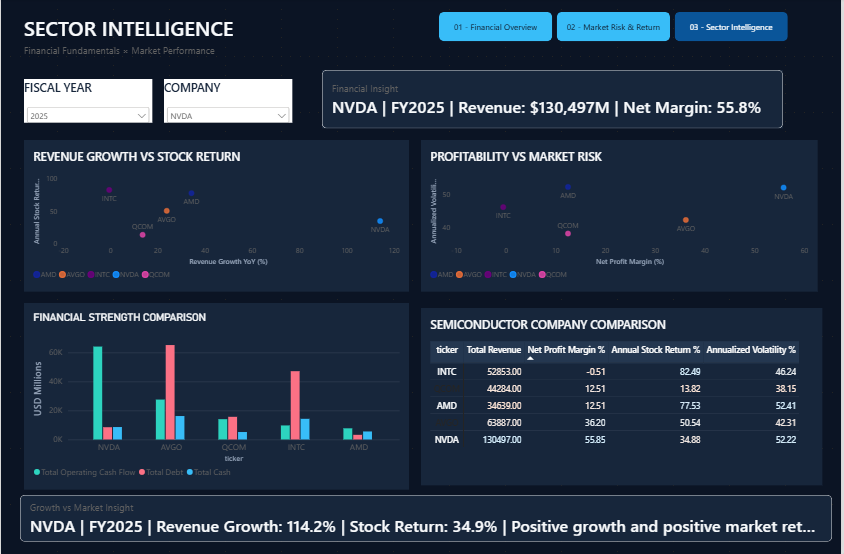

This screenshot's page, from the dashboard's own definition file:
{"tool":"powerbi","page":{"name":"03 - Sector Intelligence","canvas":[1440,950],"ordinal":2},"visuals":[{"type":"textbox","title":"SECTOR INTELLIGENCE","box":[40,24,900,48],"z":0},{"type":"slicer","title":"FISCAL YEAR","fields":{"Values":["DimYear.fiscal_year"]},"box":[40,135,220,75],"z":1000},{"type":"slicer","title":"COMPANY","fields":{"Values":["public companies.ticker"]},"box":[280,135,220,75],"z":2000},{"type":"textbox","box":[40,75,900,24],"z":3000},{"type":"scatterChart","title":"REVENUE GROWTH VS STOCK RETURN","fields":{"Category":["public companies.ticker"],"Series":["public companies.ticker"],"X":["Avg(public vw_dashboard_integrated.revenue_growth_pct)"],"Y":["Avg(public vw_dashboard_integrated.annual_return_pct)"]},"box":[40,240,660,260],"z":4000},{"type":"scatterChart","title":"PROFITABILITY VS MARKET RISK","fields":{"Category":["public companies.ticker"],"Series":["public companies.ticker"],"X":["Avg(public vw_dashboard_integrated.net_profit_margin_pct)"],"Y":["_Measures.Annualized Volatility %"]},"box":[720,240,680,260],"z":5000},{"type":"clusteredColumnChart","title":"FINANCIAL STRENGTH COMPARISON","fields":{"Category":["public companies.ticker"],"Y":["_Measures.Total Operating Cash Flow","_Measures.Total Debt","_Measures.Total Cash"]},"box":[40,520,660,320],"z":6000},{"type":"pivotTable","title":"SEMICONDUCTOR COMPANY COMPARISON","fields":{"Rows":["public companies.ticker"],"Values":["_Measures.Total Revenue","_Measures.Net Profit Margin %","_Measures.Annual Stock Return %","_Measures.Annualized Volatility %"]},"box":[720,528,688,304],"z":7000},{"type":"pageNavigator","box":[750,20,600,50],"z":8000},{"type":"cardVisual","fields":{"Data":["DimYear.Financial Insight"]},"box":[550,120,790,100],"z":9000},{"type":"cardVisual","fields":{"Data":["DimYear.Growth vs Market Insight"]},"box":[32,848,1392,80],"z":9001}]}

Visuals, with their boxes in screenshot pixels (x1, y1, x2, y2), scaled from the page's 1440x950 canvas onto the 844x554 screenshot:
"SECTOR INTELLIGENCE" textbox: Rect(23, 14, 551, 42)
"FISCAL YEAR" slicer: Rect(23, 79, 152, 122)
"COMPANY" slicer: Rect(164, 79, 293, 122)
textbox: Rect(23, 44, 551, 58)
"REVENUE GROWTH VS STOCK RETURN" scatterChart: Rect(23, 140, 410, 292)
"PROFITABILITY VS MARKET RISK" scatterChart: Rect(422, 140, 821, 292)
"FINANCIAL STRENGTH COMPARISON" clusteredColumnChart: Rect(23, 303, 410, 490)
"SEMICONDUCTOR COMPANY COMPARISON" pivotTable: Rect(422, 308, 825, 485)
pageNavigator: Rect(440, 12, 791, 41)
cardVisual - DimYear.Financial Insight: Rect(322, 70, 785, 128)
cardVisual - DimYear.Growth vs Market Insight: Rect(19, 495, 835, 541)
